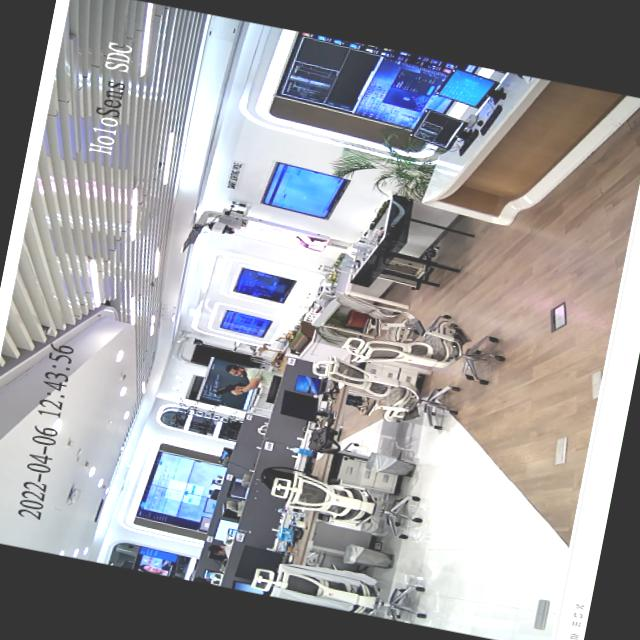long weapon: (210, 375, 255, 401)
